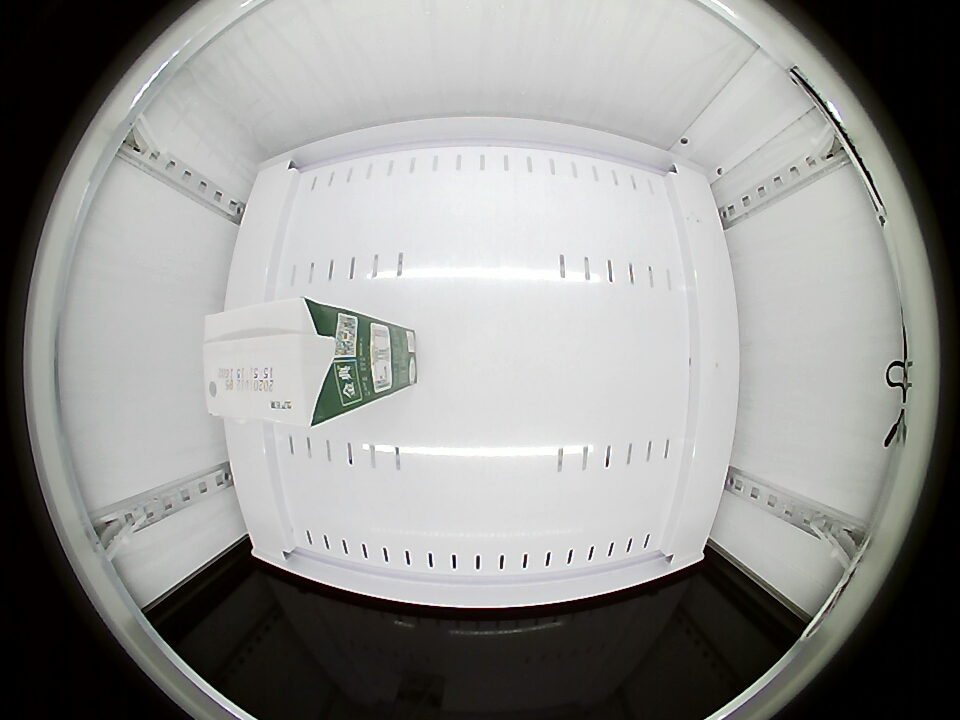jindian: (201, 297, 344, 428)
